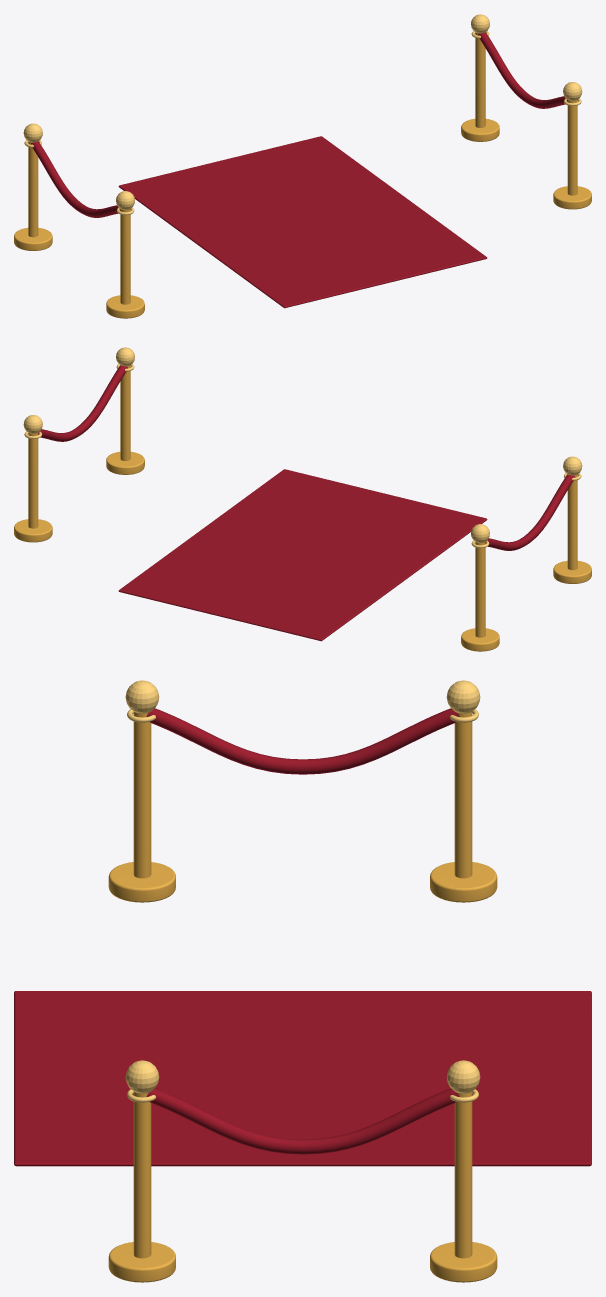
Rendered from TR_GoldenReward_Accessories.fbx.
3 renders of one model, top to bottom at view 1: azimuth 30°, elevation 25°; view 2: azimuth 150°, elevation 25°; view 3: azimuth 270°, elevation 25°, orthographic. The views are drawn at different scales.
Parts seen in each view (by area): view 1: Carpet runner, Red velvet rope, Red velvet rope.001, Stanchion stem.001, Stanchion stem.003, Stanchion stem, Stanchion stem.002, Stanchion foot.001, Stanchion foot.003, Stanchion foot, Stanchion foot.002; view 2: Carpet runner, Red velvet rope, Red velvet rope.001, Stanchion stem, Stanchion stem.002, Stanchion stem.001, Stanchion stem.003, Stanchion foot, Stanchion foot.002, Stanchion foot.001, Stanchion foot.003; view 3: Carpet runner, Red velvet rope, Red velvet rope.001, Stanchion stem, Stanchion stem.001, Stanchion stem.002, Stanchion stem.003, Stanchion foot, Stanchion foot.001, Stanchion foot.002, Stanchion foot.003, Stanchion finial.002 (+3 smaller).
Part boxes in pixels (x1,y1,x2,y2): Carpet runner: (118, 136, 487, 308); Red velvet rope: (30, 141, 120, 217); Red velvet rope.001: (478, 32, 567, 108); Stanchion stem.001: (120, 209, 130, 304); Stanchion stem.003: (567, 100, 577, 195); Stanchion stem: (28, 141, 38, 237); Stanchion stem.002: (475, 32, 485, 127); Stanchion foot.001: (106, 295, 144, 318); Stanchion foot.003: (553, 186, 591, 209); Stanchion foot: (14, 227, 52, 250); Stanchion foot.002: (461, 118, 499, 141); Carpet runner: (118, 469, 487, 641); Red velvet rope: (485, 474, 575, 550); Red velvet rope.001: (38, 365, 127, 441); Stanchion stem: (475, 542, 485, 637); Stanchion stem.002: (28, 433, 38, 528); Stanchion stem.001: (567, 474, 577, 570); Stanchion stem.003: (120, 365, 130, 460); Stanchion foot: (461, 628, 499, 651); Stanchion foot.002: (14, 519, 52, 542); Stanchion foot.001: (553, 560, 591, 583); Stanchion foot.003: (106, 451, 144, 474); Carpet runner: (14, 991, 591, 1166); Red velvet rope: (146, 708, 459, 774); Red velvet rope.001: (146, 1088, 459, 1154); Stanchion stem: (454, 712, 472, 878); Stanchion stem.001: (133, 712, 151, 878); Stanchion stem.002: (454, 1092, 472, 1258); Stanchion stem.003: (133, 1092, 151, 1258); Stanchion foot: (430, 862, 497, 902); Stanchion foot.001: (108, 862, 175, 902); Stanchion foot.002: (430, 1242, 497, 1282); Stanchion foot.003: (108, 1242, 175, 1282); Stanchion finial.002: (446, 1060, 480, 1093).
Bounding box in the file's own units: 47.89 × 11.39 × 28.64.
